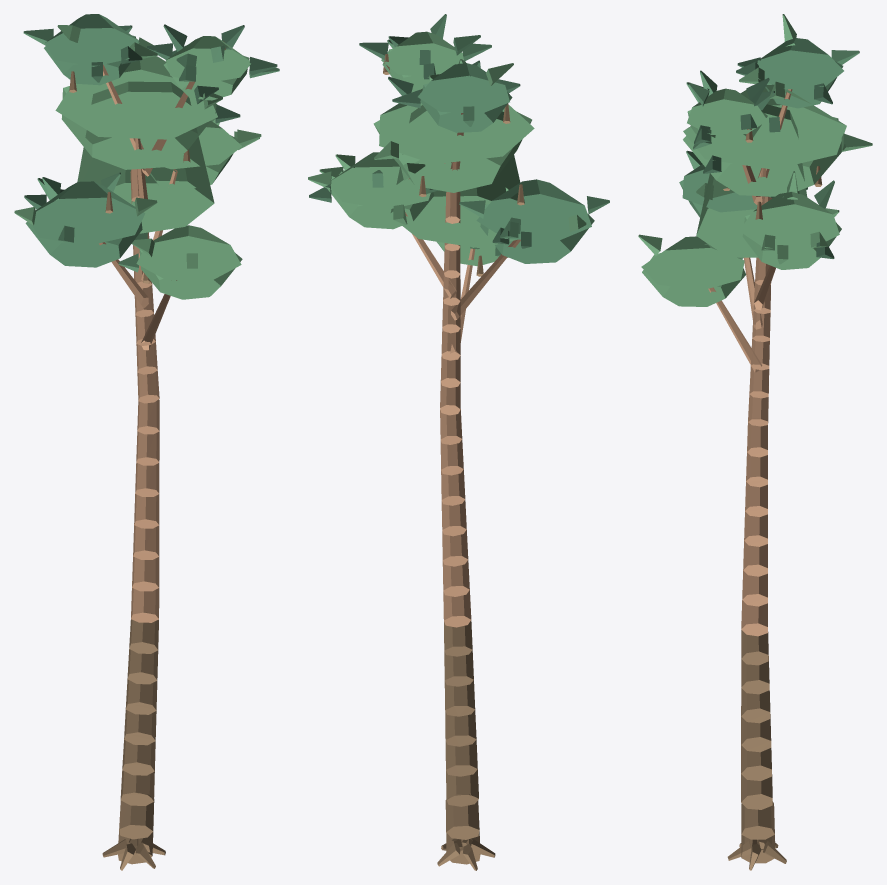
The model's file is pine.glb.
3 views of the same model, side by side, from view 1: azimuth 30°, elevation 25°; view 2: azimuth 150°, elevation 25°; view 3: azimuth 270°, elevation 25° (orthographic). The views are drawn at different scales.
Parts seen in each view (by area): view 1: Crown#2, Crown.Core, Crown#4, Crown#8, Crown, Crown#10, Crown#12, Crown#3, Crown#6, Crown#7, Trunk, Crown#9 (+18 smaller); view 2: Crown#2, Crown#4, Crown.Core, Crown#6, Crown#10, Crown, Crown#12, Crown#3, Crown#5, Crown#9, Trunk, Trunk#2 (+15 smaller); view 3: Crown#2, Crown#6, Crown#8, Crown#10, Crown, Crown.Core, Crown#12, Crown#4, Crown#7, Crown#5, Trunk, Trunk#2 (+19 smaller).
Boxes of the visible parts, <box> form: Crown#2: <box>55,56,217,139</box>; Crown.Core: <box>77,81,214,233</box>; Crown#4: <box>31,181,145,245</box>; Crown#8: <box>136,225,241,280</box>; Crown: <box>61,86,216,169</box>; Crown#10: <box>45,14,139,66</box>; Crown#12: <box>165,36,250,83</box>; Crown#3: <box>25,221,142,267</box>; Crown#6: <box>165,121,241,169</box>; Crown#7: <box>139,249,242,299</box>; Trunk: <box>119,792,154,839</box>; Crown#9: <box>44,35,135,85</box>; Crown#2: <box>379,88,534,164</box>; Crown#4: <box>476,179,591,241</box>; Crown.Core: <box>390,105,524,248</box>; Crown#6: <box>330,152,430,209</box>; Crown#10: <box>418,63,509,113</box>; Crown: <box>373,111,531,192</box>; Crown#12: <box>381,31,463,77</box>; Crown#3: <box>480,204,594,263</box>; Crown#5: <box>327,170,434,229</box>; Crown#9: <box>420,83,512,132</box>; Trunk: <box>445,794,479,839</box>; Trunk#2: <box>446,769,478,806</box>; Crown#2: <box>683,84,846,169</box>; Crown#6: <box>739,192,839,249</box>; Crown#8: <box>641,236,744,290</box>; Crown#10: <box>757,38,843,89</box>; Crown: <box>683,117,845,196</box>; Crown.Core: <box>696,104,807,257</box>; Crown#12: <box>687,88,767,134</box>; Crown#4: <box>682,164,757,212</box>; Crown#7: <box>642,253,745,306</box>; Crown#5: <box>742,215,841,269</box>; Trunk: <box>741,801,774,839</box>; Trunk#2: <box>741,774,772,809</box>.
Bounding box in the file's own units: 5.5 × 17.04 × 4.44.
